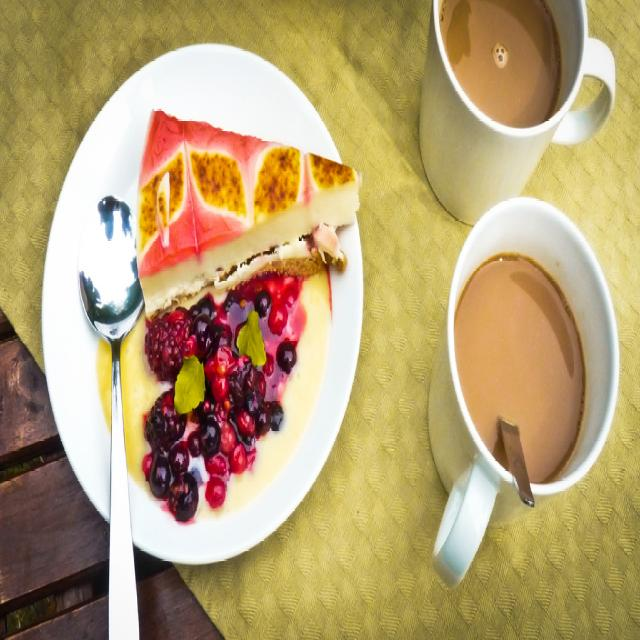Tea: (452, 260, 586, 486), (439, 0, 562, 132)
